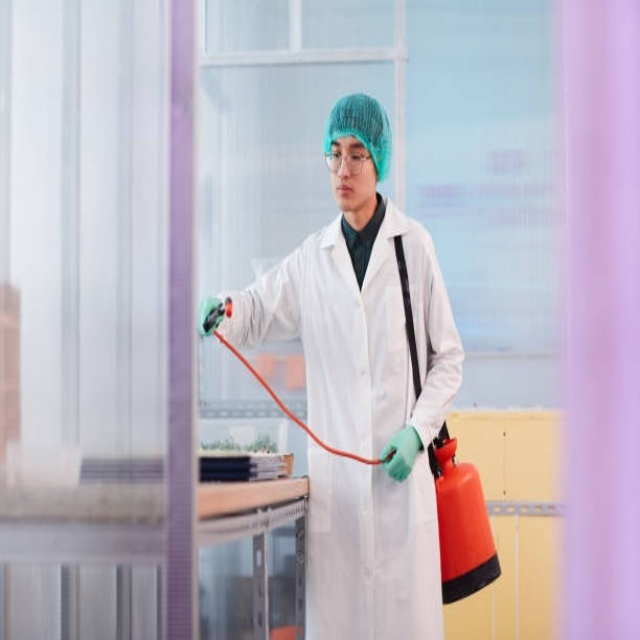Gafas: (326, 151, 374, 175)
Guantes: (378, 424, 425, 480)
Sin_mascara: (332, 177, 363, 210)
